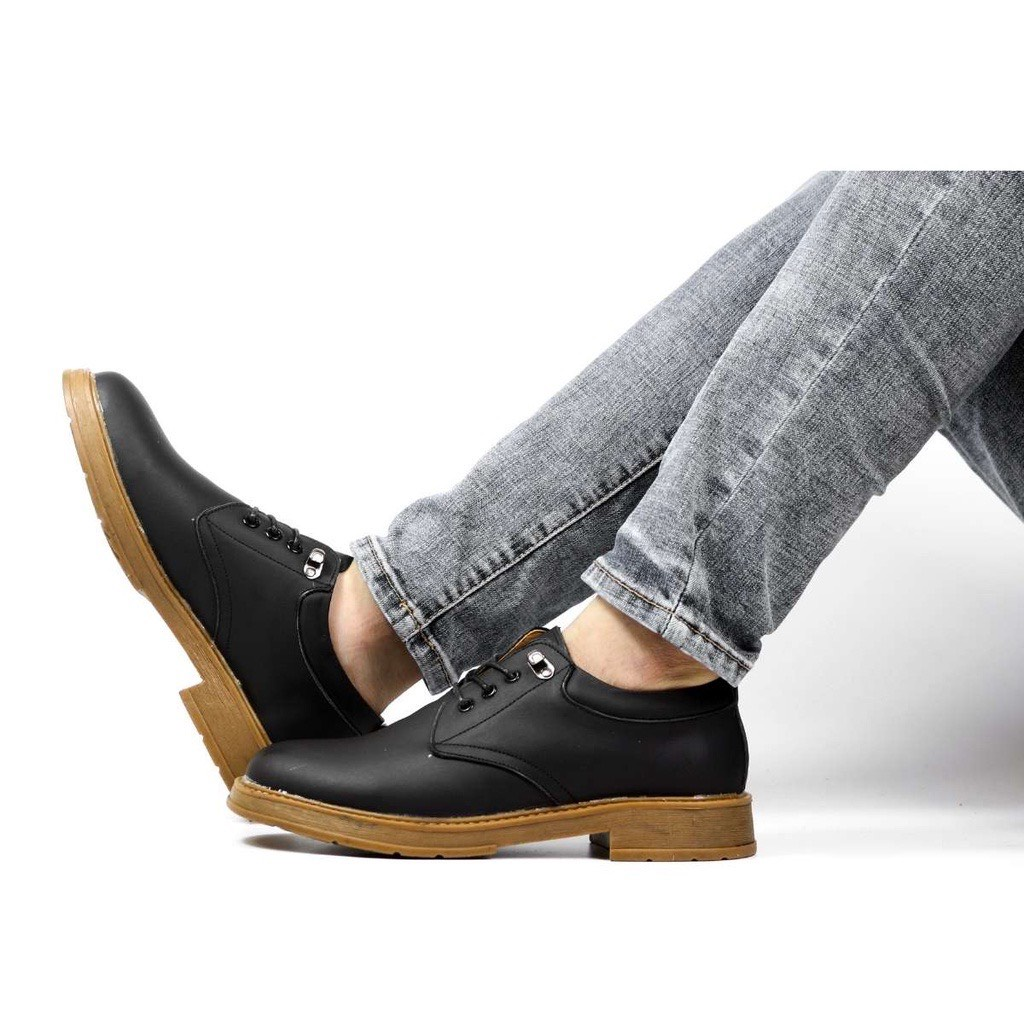derby: (60, 362, 386, 804), (226, 625, 759, 863)
